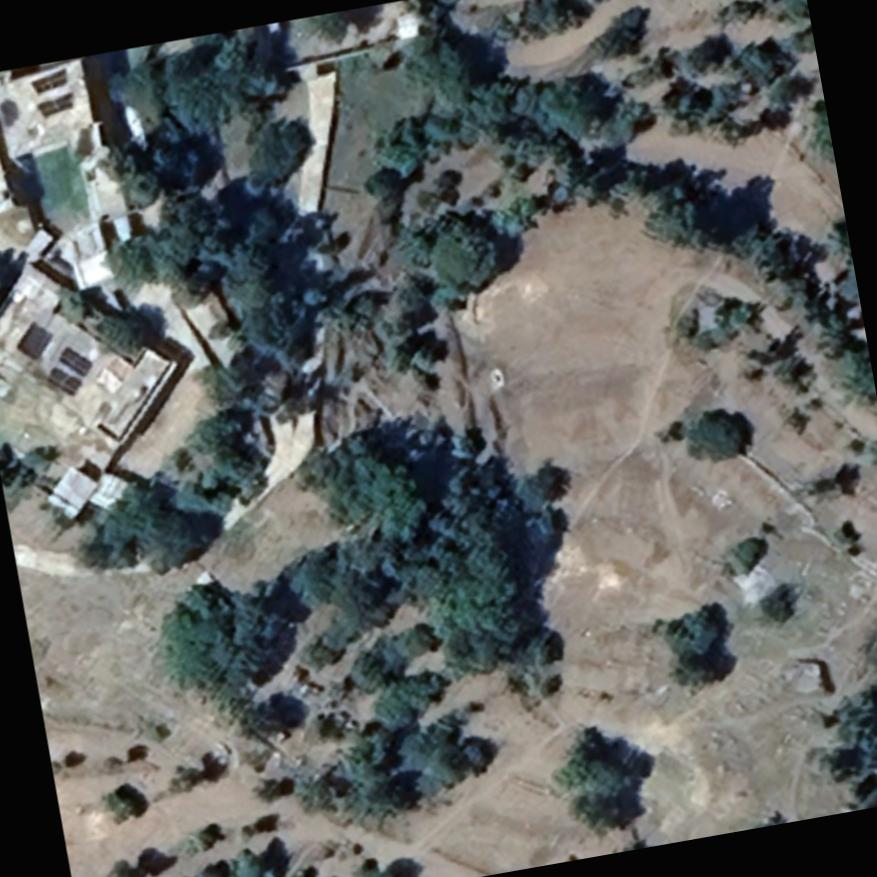Solarpanel: (9, 316, 56, 364), (55, 341, 95, 381), (43, 360, 83, 400), (28, 66, 68, 94), (35, 91, 73, 120)
